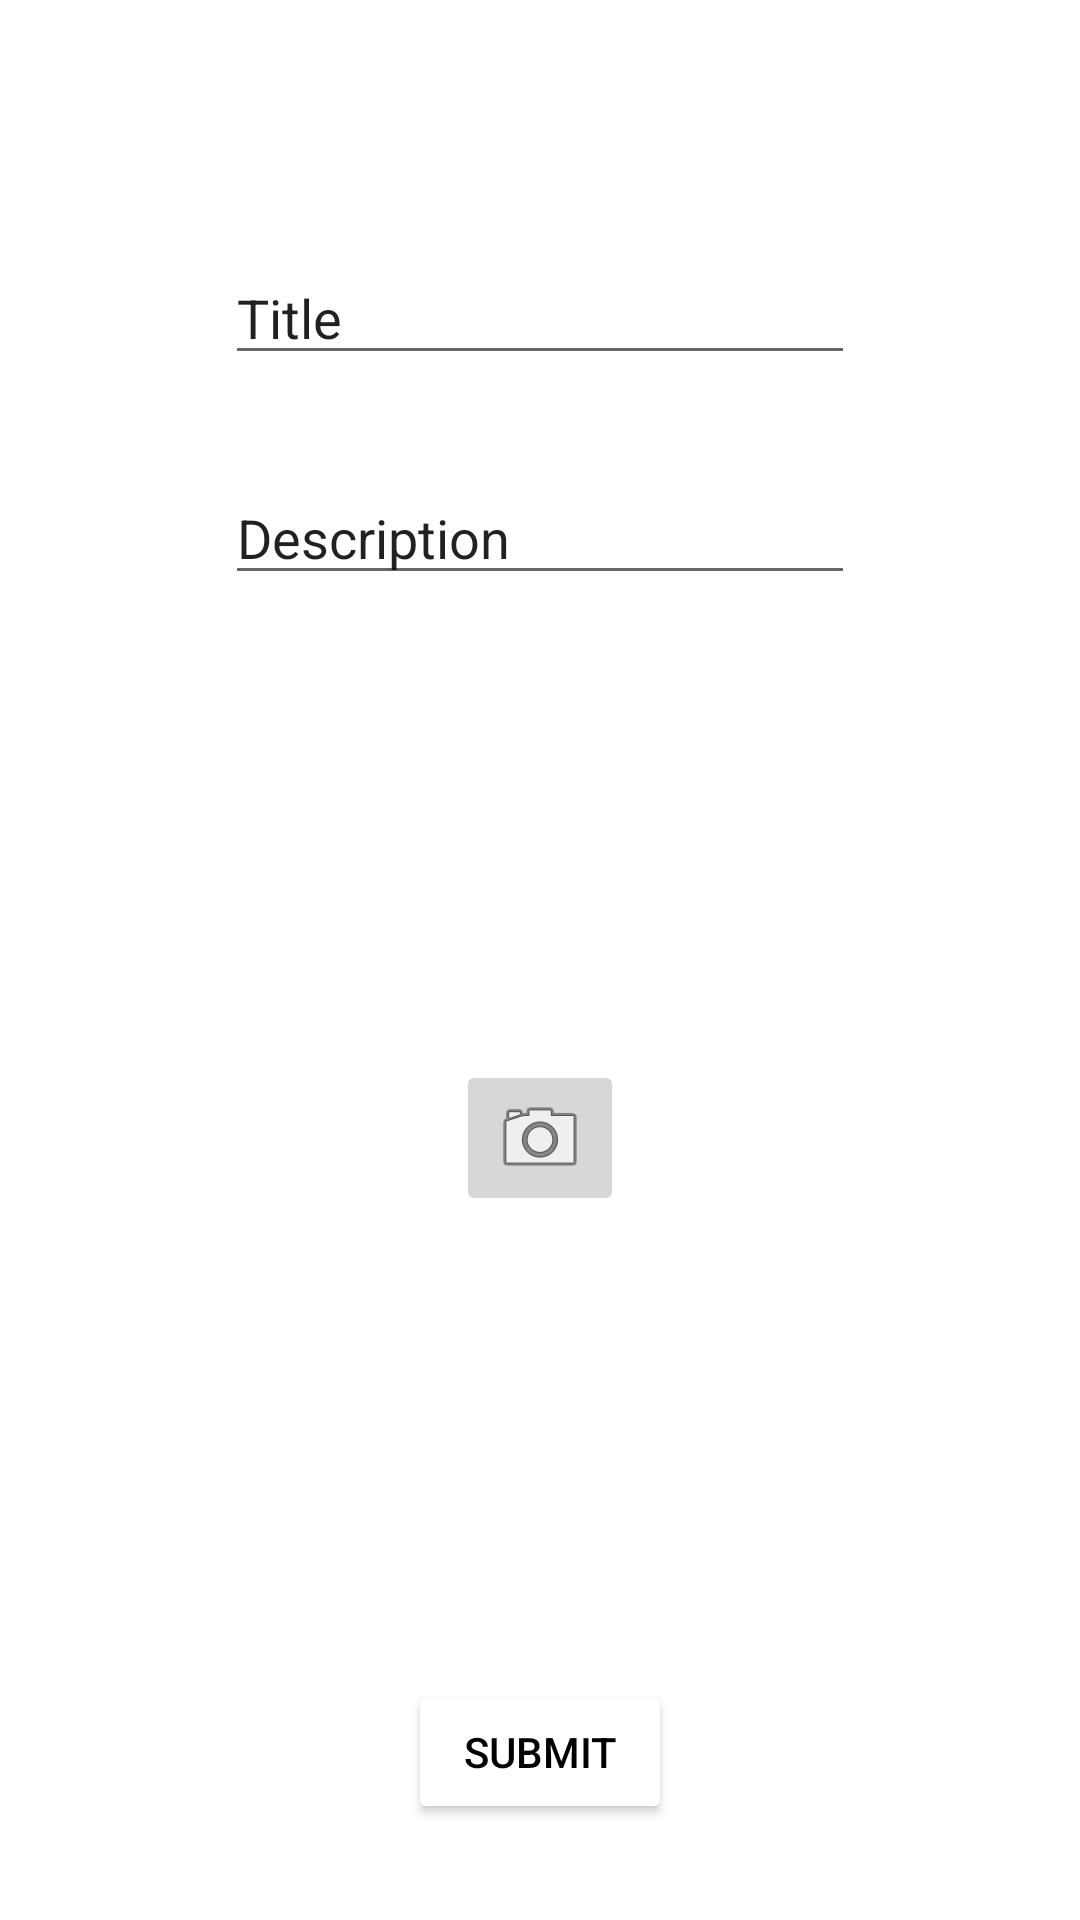

Named icons in this screenshot (1080px x 1920px) and their bounding boxes, (x1, y1, x2, y2):
camera: (468, 1078, 612, 1198)
